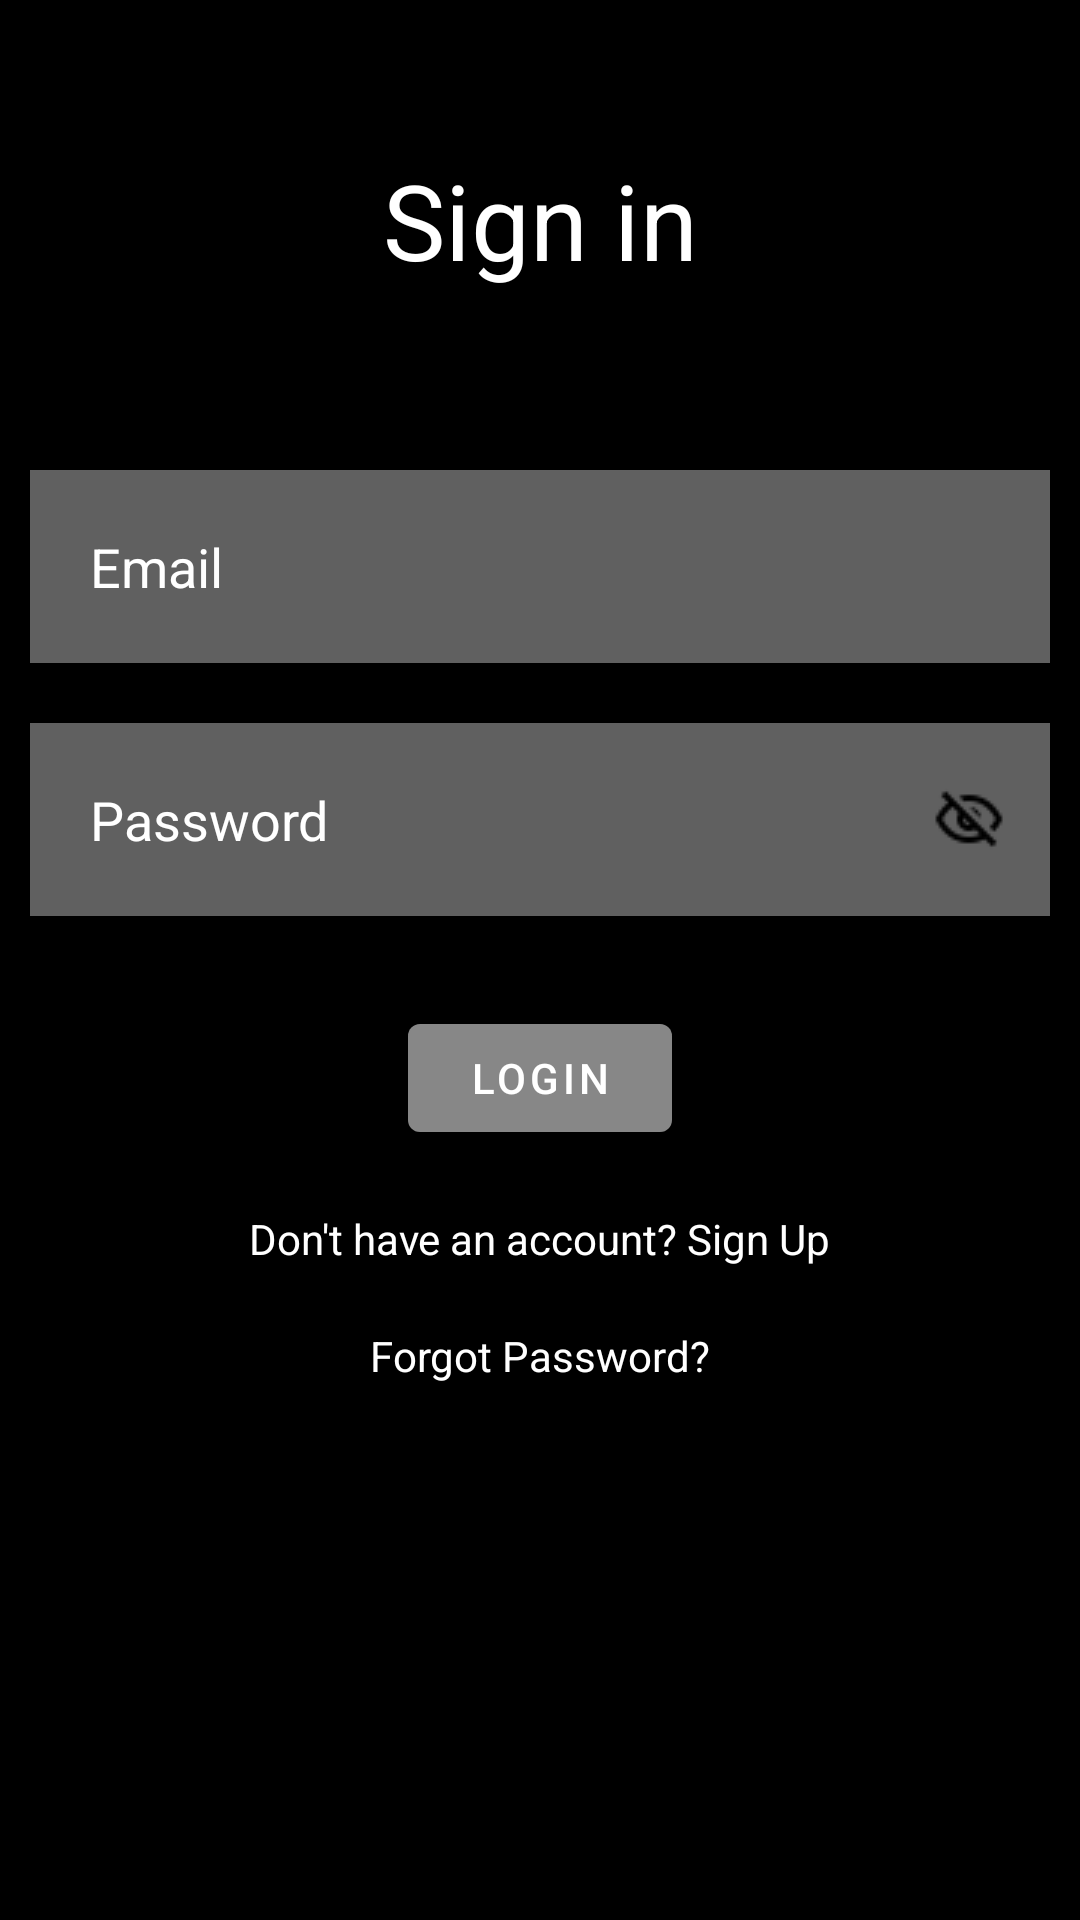

Icons on this 1080 × 1920 Android screen, each with its box as (x1, y1, x2, y2):
hide ped: (935, 791, 1003, 847)
